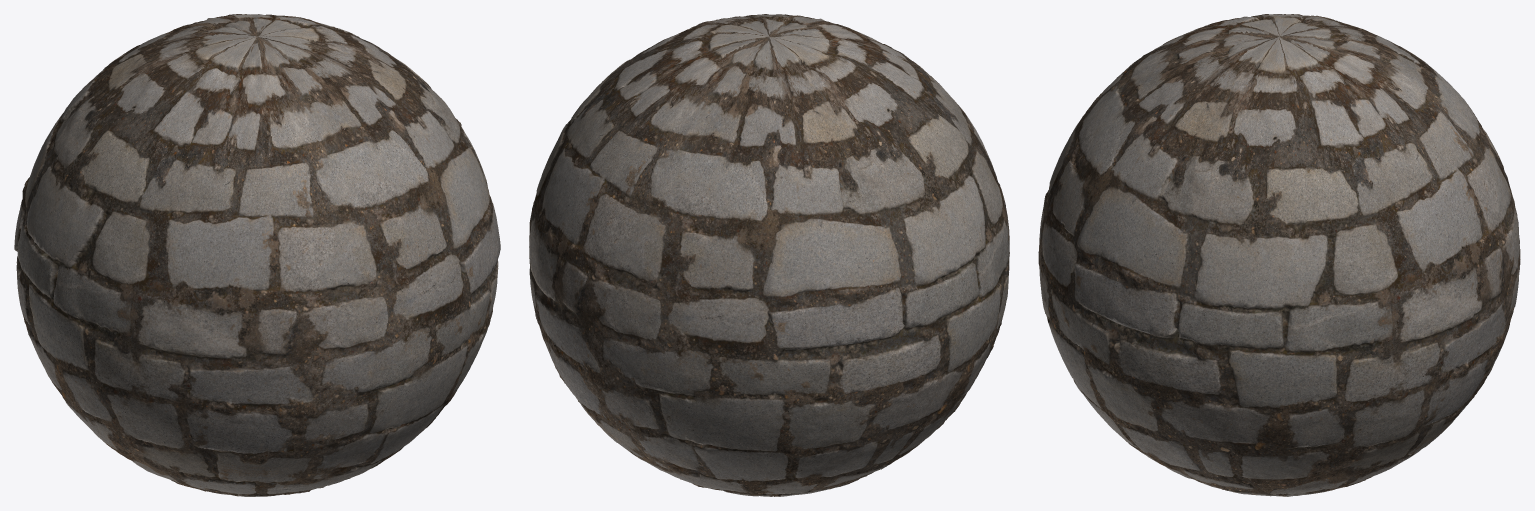
The model's file is stone_wall_04_2k.gltf.
3 renders of one model, left to right at view 1: azimuth 30°, elevation 25°; view 2: azimuth 150°, elevation 25°; view 3: azimuth 270°, elevation 25°, orthographic.
Parts seen in each view (by area): view 1: sphere_gltf; view 2: sphere_gltf; view 3: sphere_gltf.
Boxes of the visible parts, <box> form: sphere_gltf: <box>14,14,500,496</box>; sphere_gltf: <box>529,14,1009,496</box>; sphere_gltf: <box>1038,14,1520,496</box>.
Bounding box in the file's own units: 1.72 × 1.72 × 1.72.
1 material, 1 textured.
